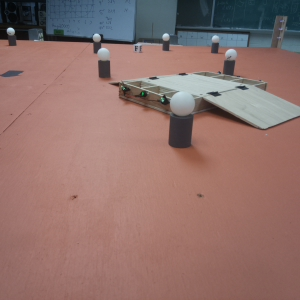obstacle: (169, 91, 195, 149), (98, 48, 111, 80), (224, 49, 238, 74), (90, 32, 102, 52), (7, 26, 16, 46), (162, 33, 170, 51), (212, 35, 220, 53)
side: (118, 81, 185, 118)
slope: (207, 85, 300, 131)
